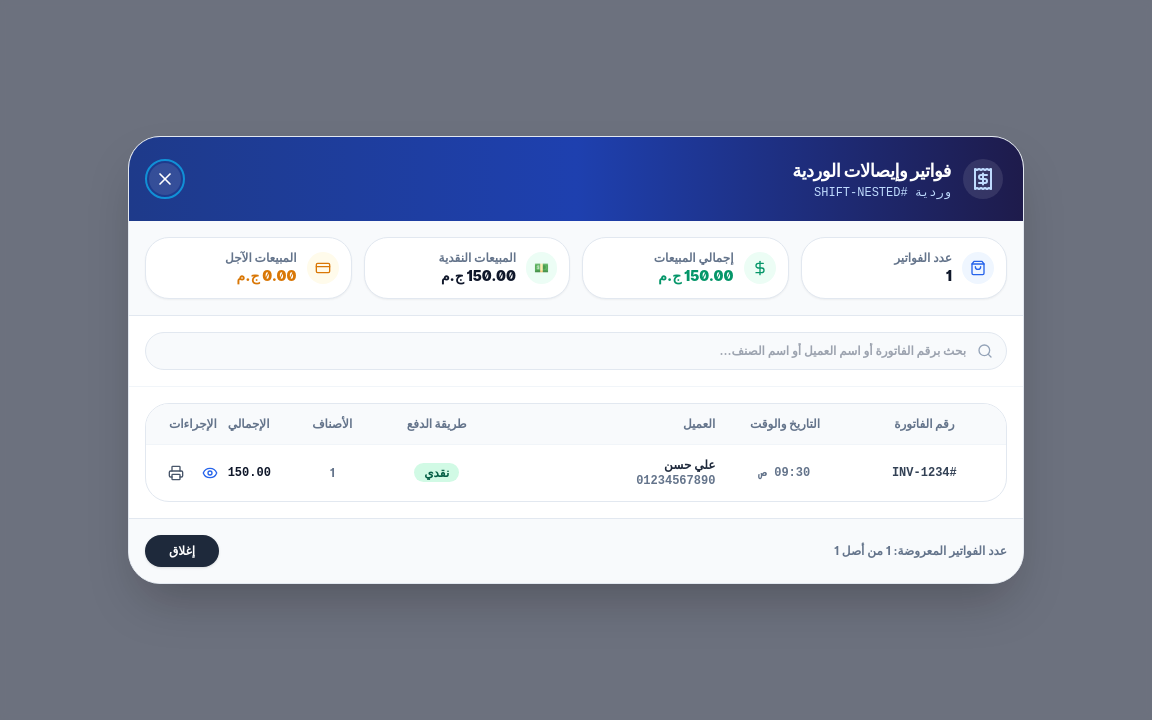
Test: shift receipts ui wiring › keeps the outer shift-receipts modal open when Escape belongs to nested receipt details
Check: the text "علي حسن" is shown, box top-left (664, 457), bottom-right (715, 472)
Click the button titled "عرض تفاصيل الفاتورة": (210, 473) top-left (196, 459), bottom-right (224, 487)
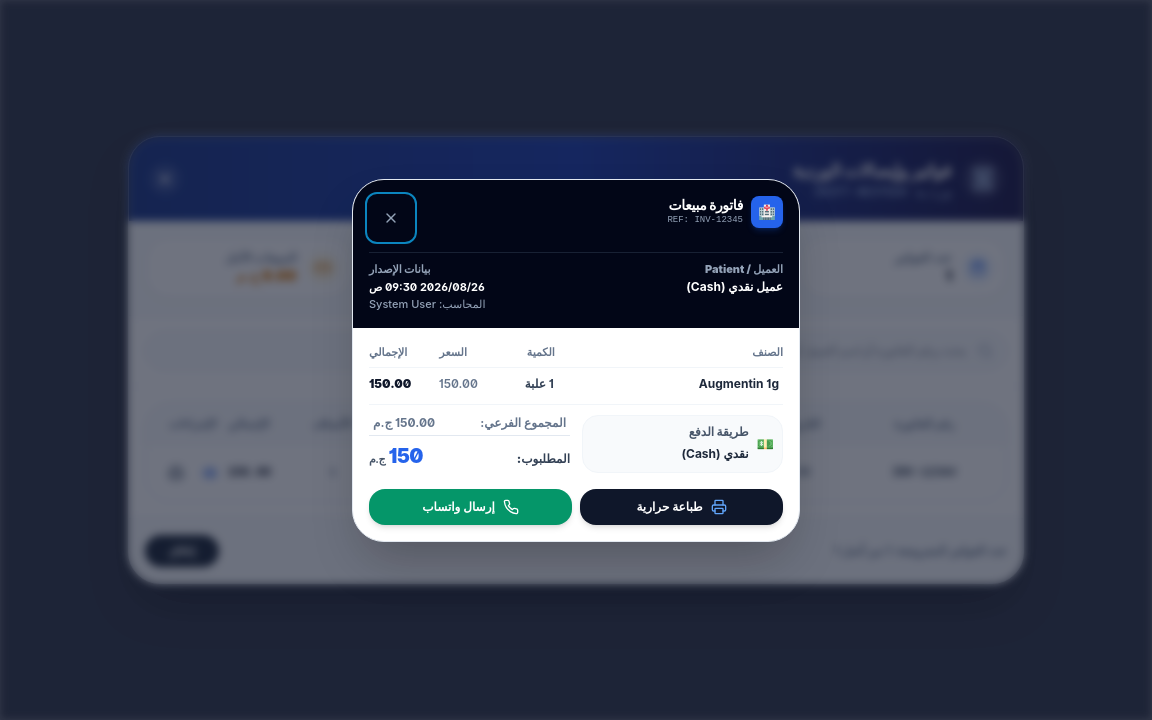
Check: the heading "فواتير وإيصالات الوردية" is shown, box top-left (792, 157), bottom-right (951, 185)
Check: the text "Augmentin 1g" is shown, box top-left (699, 376), bottom-right (779, 390)
